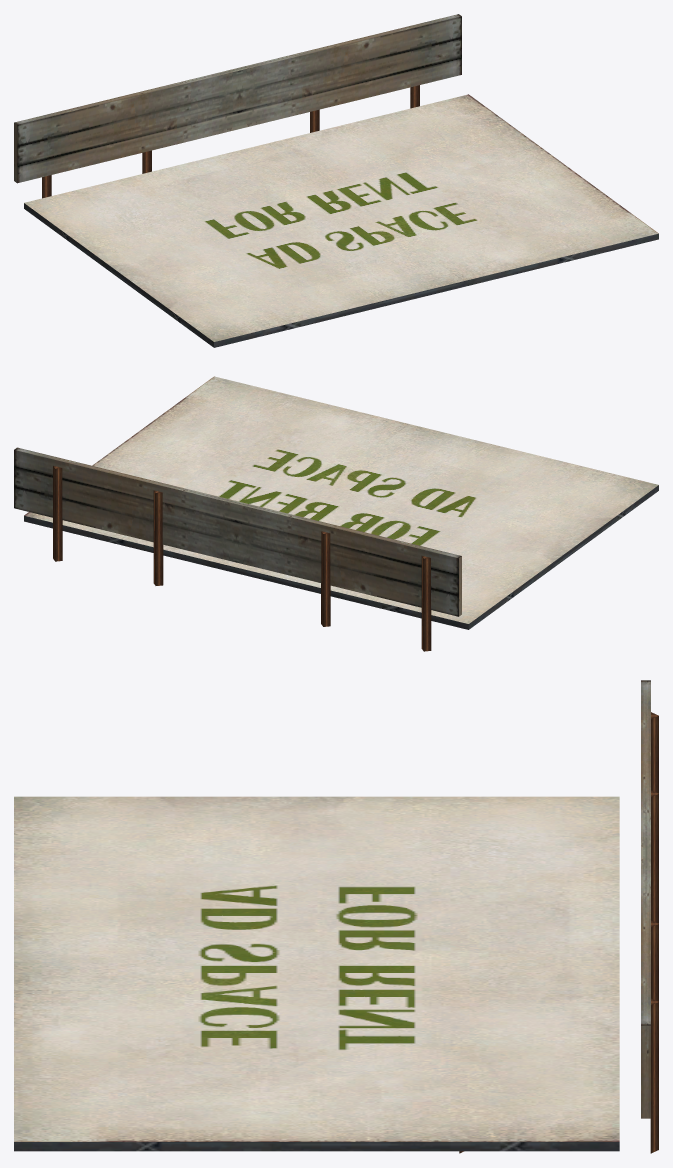
Rendered from billboard_adrent.fbx.
3 renders of one model, top to bottom at view 1: azimuth 30°, elevation 25°; view 2: azimuth 150°, elevation 25°; view 3: azimuth 270°, elevation 25°, orthographic. The views are drawn at different scales.
Visible parts, largest first — view 1: mesh_1, mesh_0; view 2: mesh_1, mesh_0; view 3: mesh_1, mesh_0.
Part boxes in pixels (<box>): mesh_1: <box>24,94,658,341</box>; mesh_0: <box>14,14,658,347</box>; mesh_1: <box>24,376,658,623</box>; mesh_0: <box>14,447,658,651</box>; mesh_1: <box>14,796,619,1141</box>; mesh_0: <box>14,680,658,1153</box>.
Bounding box in the file's own units: 540 × 115 × 426.
2 materials, 2 textured.
